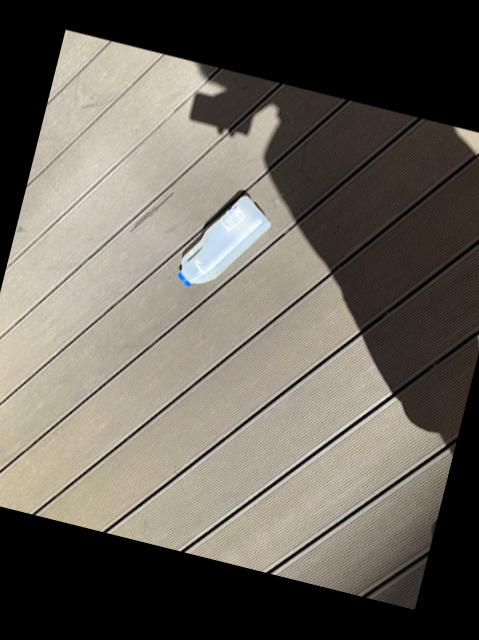plastic: (179, 194, 271, 285)
